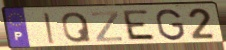2: (190, 7, 218, 42)
E: (122, 9, 158, 42)
G: (154, 8, 187, 42)
I: (42, 12, 58, 45)
Q: (60, 11, 94, 45)
Z: (90, 11, 125, 44)
